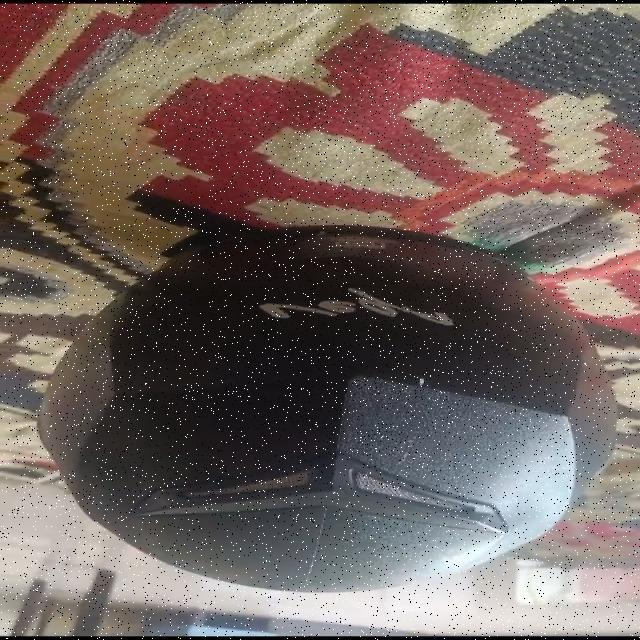Helmet: (37, 225, 616, 592)
